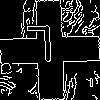L: (25, 25, 55, 72)
